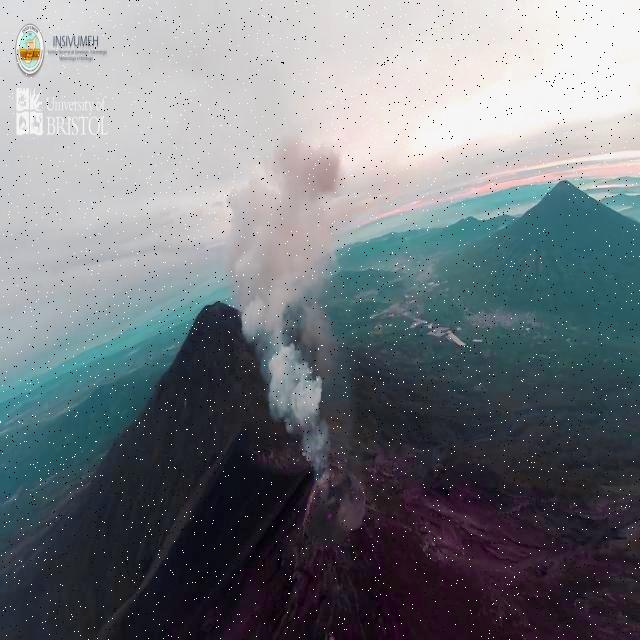Plume: (218, 123, 360, 471)
Summit: (300, 462, 386, 584)
